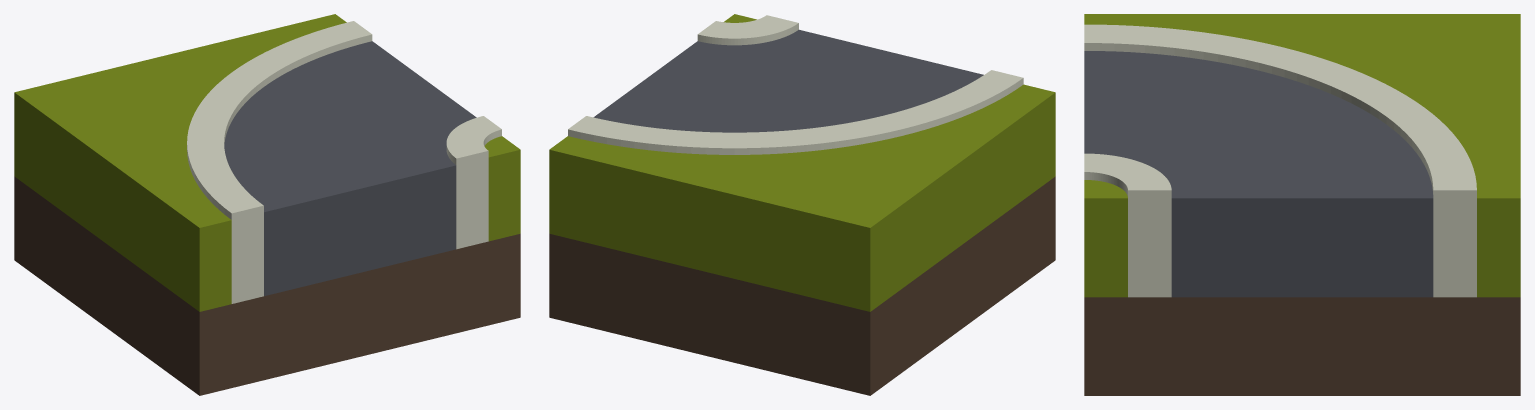
File: grass-curve.dae
The picture shows the model from 3 angles, left to right: view 1: azimuth 30°, elevation 25°; view 2: azimuth 150°, elevation 25°; view 3: azimuth 270°, elevation 25°; orthographic projection. The views are drawn at different scales.
Visible parts, largest first — view 1: street.1; view 2: street.1; view 3: street.1.
Part boxes in pixels (x1,y1,x2,y2): street.1: (14,14,520,395); street.1: (549,14,1055,395); street.1: (1084,14,1520,395).
Bounding box in the file's own units: 500 × 260 × 500.
